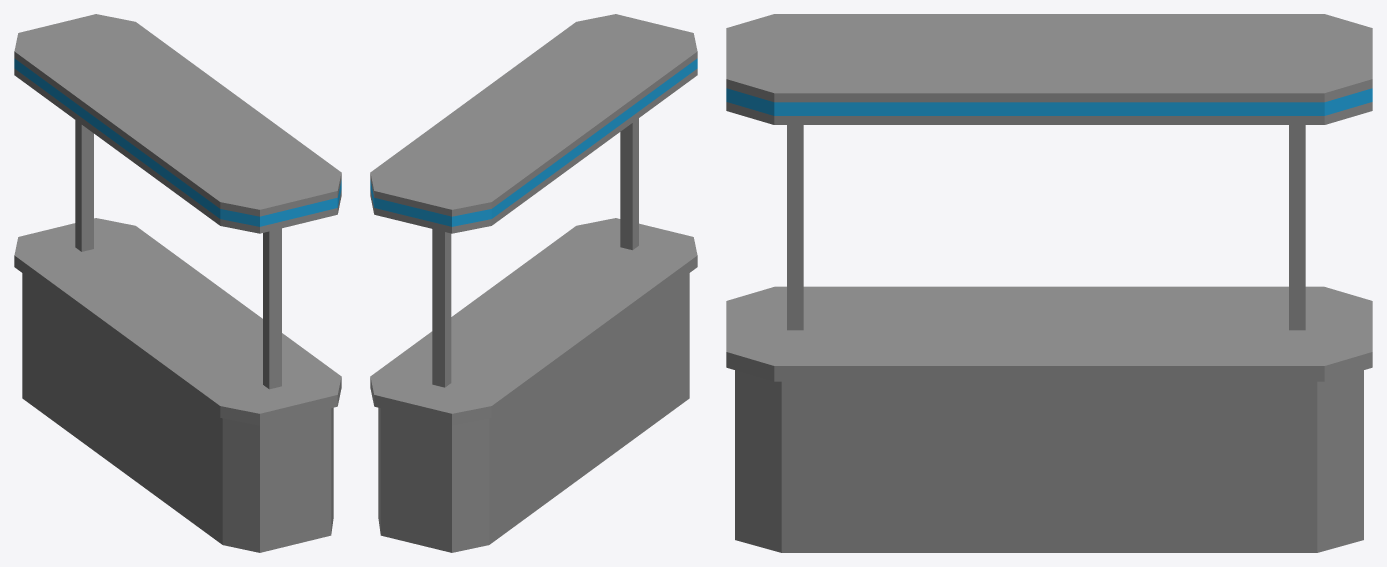
File: seatingstand.fbx
3 views of the same model, side by side, from view 1: azimuth 30°, elevation 25°; view 2: azimuth 150°, elevation 25°; view 3: azimuth 270°, elevation 25° (orthographic). The views are drawn at different scales.
Parts seen in each view (by area): view 1: seatingstand; view 2: seatingstand; view 3: seatingstand.
Boxes of the visible parts, left/top/right/bottom form: seatingstand: left=14, top=14, right=341, bottom=552; seatingstand: left=370, top=14, right=697, bottom=552; seatingstand: left=726, top=14, right=1372, bottom=552.
Size of the model in its own units: 1.14 by 3.1 by 3.92.
Materials: 2 (1 with a texture image).
